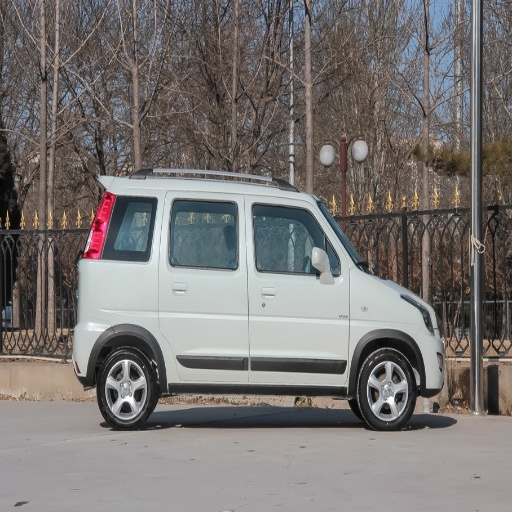front_right_door: (247, 196, 348, 381)
trunk: (74, 264, 152, 372)
